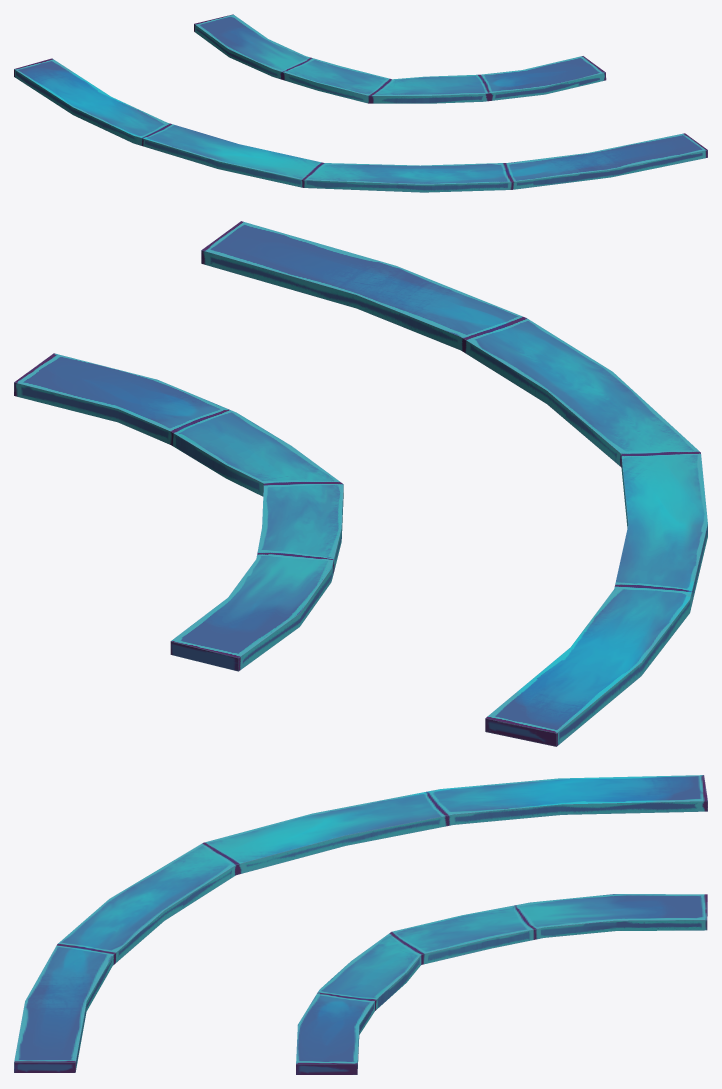
The model's file is SUP_ARCH_sidewalkCurved.fbx.
3 views of the same model, one above another, from view 1: azimuth 30°, elevation 25°; view 2: azimuth 150°, elevation 25°; view 3: azimuth 270°, elevation 25° (orthographic). The views are drawn at different scales.
Parts seen in each view (by area): view 1: m_superposed_sidewalkCurved; view 2: m_superposed_sidewalkCurved; view 3: m_superposed_sidewalkCurved.
Part boxes in pixels (x1=…): m_superposed_sidewalkCurved: x1=14, y1=14, x2=707, y2=192; m_superposed_sidewalkCurved: x1=14, y1=221, x2=707, y2=746; m_superposed_sidewalkCurved: x1=14, y1=775, x2=707, y2=1074.
Bounding box in the file's own units: 2222 × 37.69 × 2252.
Materials: 1 (1 with a texture image).
